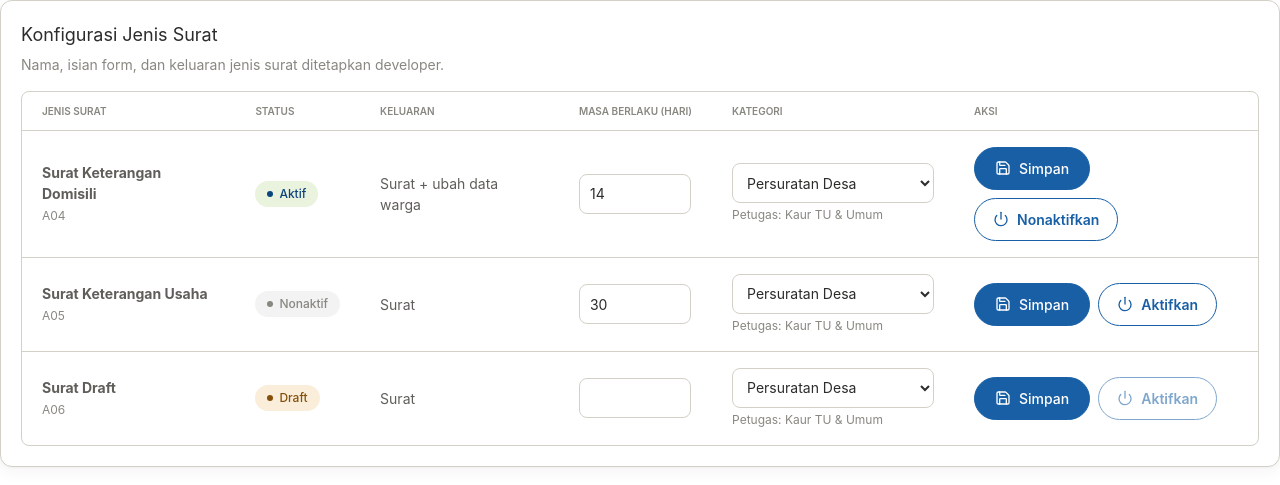
Test: LetterTypeSettingsPanel › lists all types with status badges and reactivates an inactive type
Expected: the text "Nonaktif" is shown, [255,291,340,317]
Expected: the text "Draft" is shown, [255,385,320,411]
Click the button "Aktifkan" in the row of "Surat Keterangan Usaha" at (1158, 304), box [1098,283,1217,326]
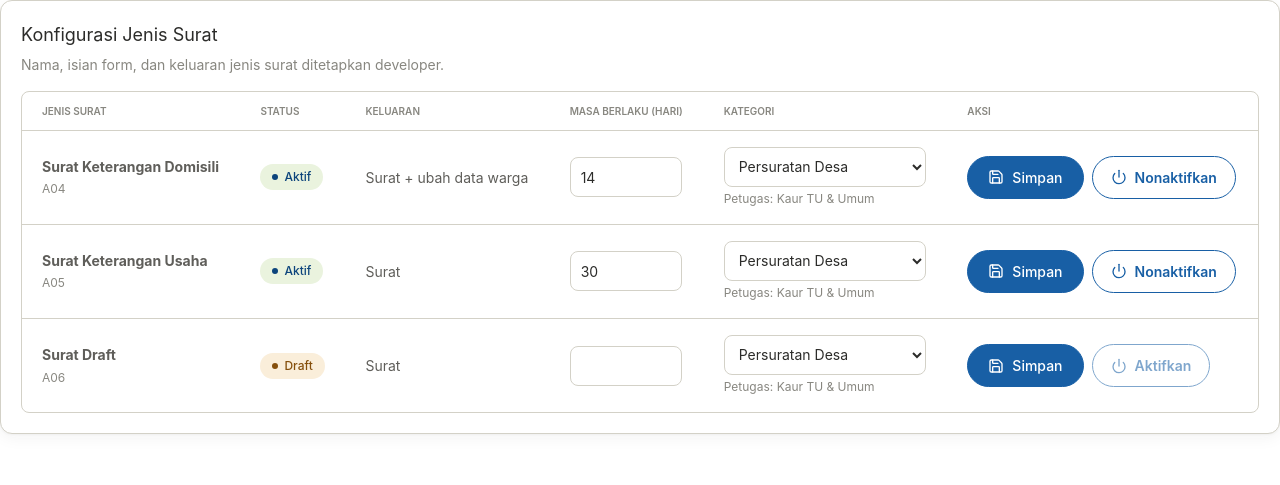
Expected: the text "Aktif" next to "Surat Keterangan Usaha" is shown, [284,263,311,278]
Now the button "Nonaktifkan" in the row of "Surat Keterangan Usaha" is shown, box [1092,250,1236,293]
